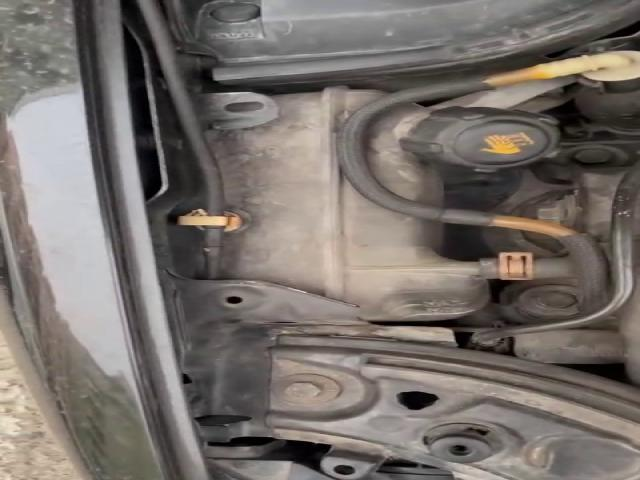antifreeze_tank: (210, 86, 488, 321), (369, 104, 559, 206)
